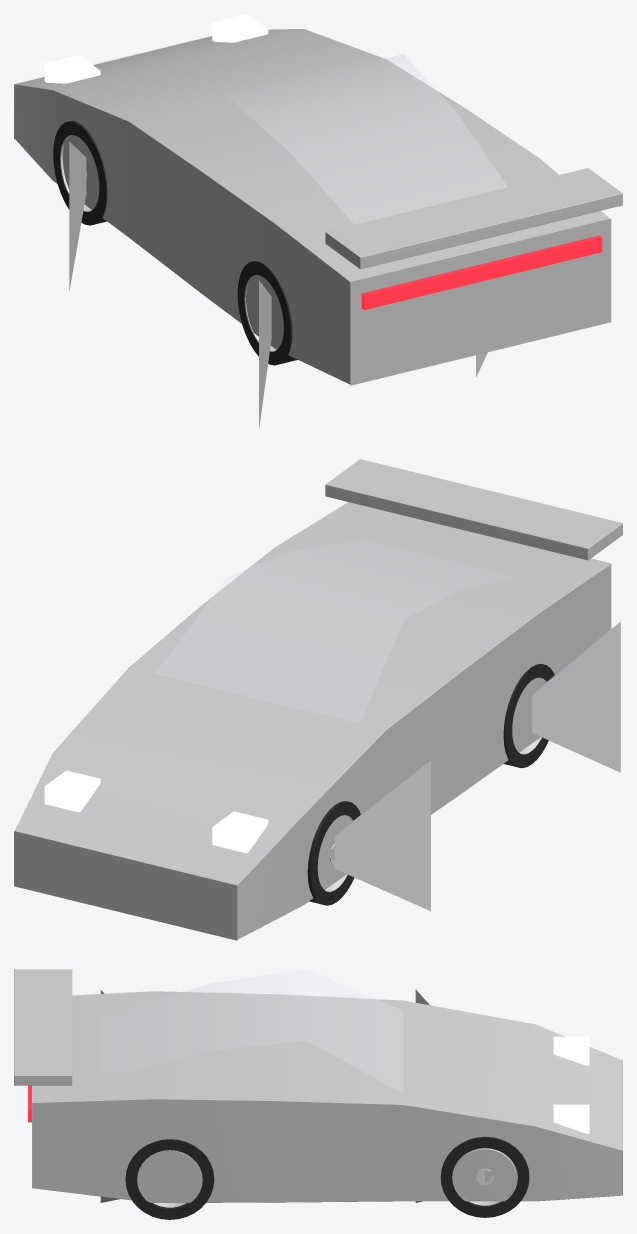
File: vehicle.glb
3 renders of one model, top to bottom at view 1: azimuth 30°, elevation 25°; view 2: azimuth 150°, elevation 25°; view 3: azimuth 270°, elevation 25°, orthographic. The views are drawn at different scales.
Parts seen in each view (by area): view 1: BODY_959_MainShell, GLASS_Greenhouse, AERO_Integrated_RearWing, LIGHT_Taillights, LIGHT_Headlights, WHEEL_RR_Tire, WHEEL_FR_Tire, WHEEL_FR_Rim, WHEEL_RR_Rim; view 2: BODY_959_MainShell, GLASS_Greenhouse, AERO_Integrated_RearWing, WHEEL_FR_Rim, WHEEL_RR_Rim, LIGHT_Headlights, WHEEL_FR_Tire, WHEEL_RR_Tire; view 3: BODY_959_MainShell, GLASS_Greenhouse, AERO_Integrated_RearWing, WHEEL_FL_Tire, WHEEL_RL_Tire, LIGHT_Headlights, WHEEL_FL_Rim.
Part boxes in pixels (x1,y1,x2,y2): BODY_959_MainShell: [14, 29, 611, 385]; GLASS_Greenhouse: [227, 54, 507, 224]; AERO_Integrated_RearWing: [325, 168, 622, 269]; LIGHT_Taillights: [361, 235, 602, 309]; LIGHT_Headlights: [44, 14, 268, 83]; WHEEL_RR_Tire: [237, 261, 297, 365]; WHEEL_FR_Tire: [53, 121, 107, 225]; WHEEL_FR_Rim: [60, 135, 91, 291]; WHEEL_RR_Rim: [245, 276, 276, 428]; BODY_959_MainShell: [14, 502, 611, 940]; GLASS_Greenhouse: [155, 540, 513, 723]; AERO_Integrated_RearWing: [325, 459, 622, 560]; WHEEL_FR_Rim: [325, 760, 430, 910]; WHEEL_RR_Rim: [519, 622, 620, 772]; LIGHT_Headlights: [44, 770, 268, 853]; WHEEL_FR_Tire: [307, 801, 360, 905]; WHEEL_RR_Tire: [503, 664, 554, 768]; BODY_959_MainShell: [32, 991, 622, 1202]; GLASS_Greenhouse: [100, 969, 403, 1093]; AERO_Integrated_RearWing: [14, 969, 72, 1085]; WHEEL_FL_Tire: [440, 1136, 529, 1217]; WHEEL_RL_Tire: [125, 1139, 214, 1219]; LIGHT_Headlights: [553, 1036, 589, 1133]; WHEEL_FL_Rim: [415, 1148, 516, 1205].
Size of the model in its own units: 2.18 by 1.46 by 4.39.
